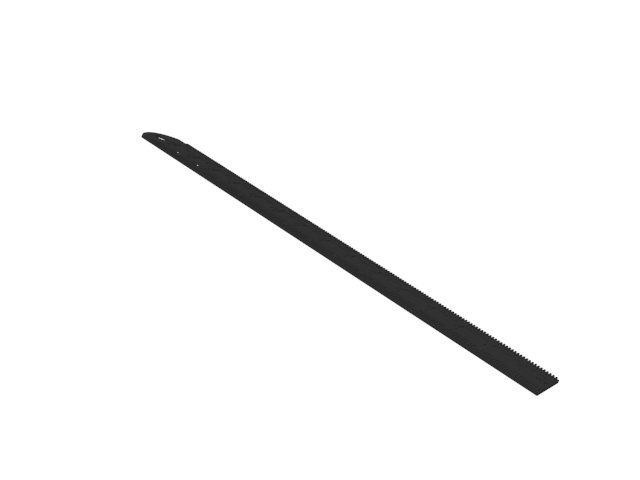ruler: (137, 129, 560, 400)
